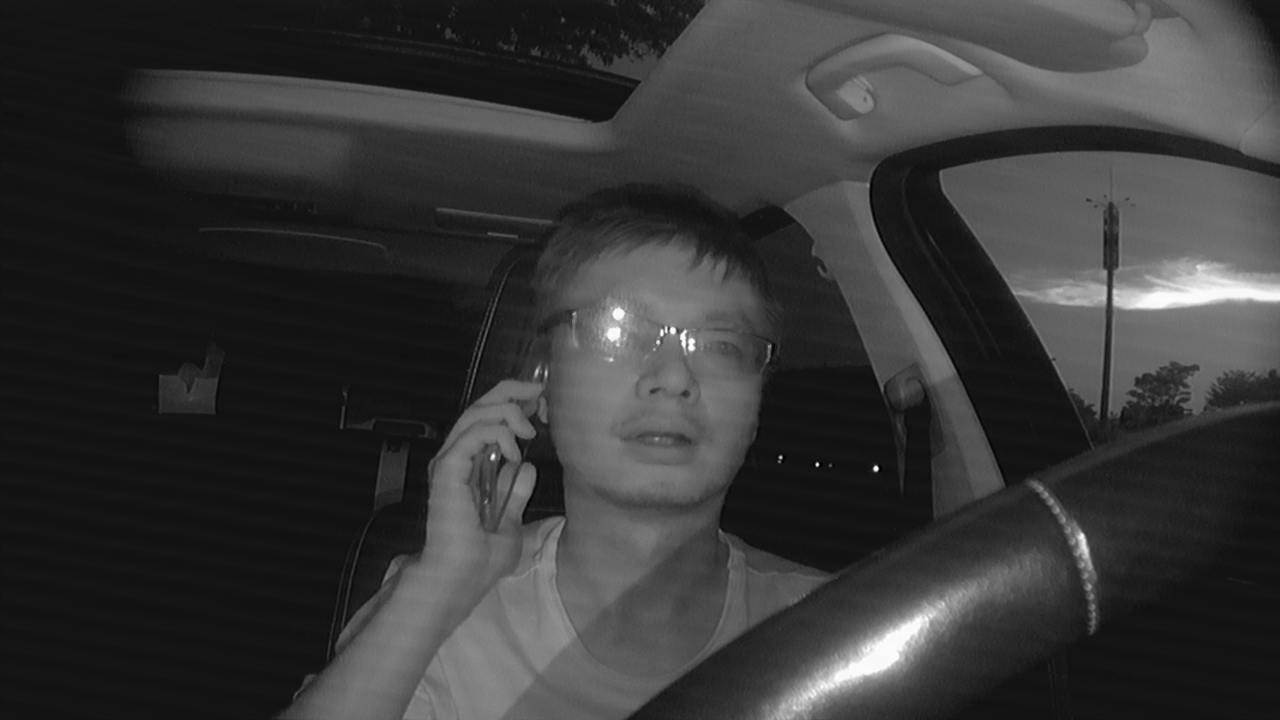hand: (422, 374, 543, 575)
